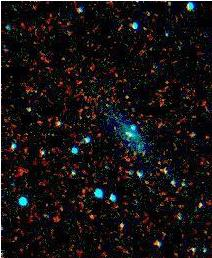star: (79, 201, 109, 231)
